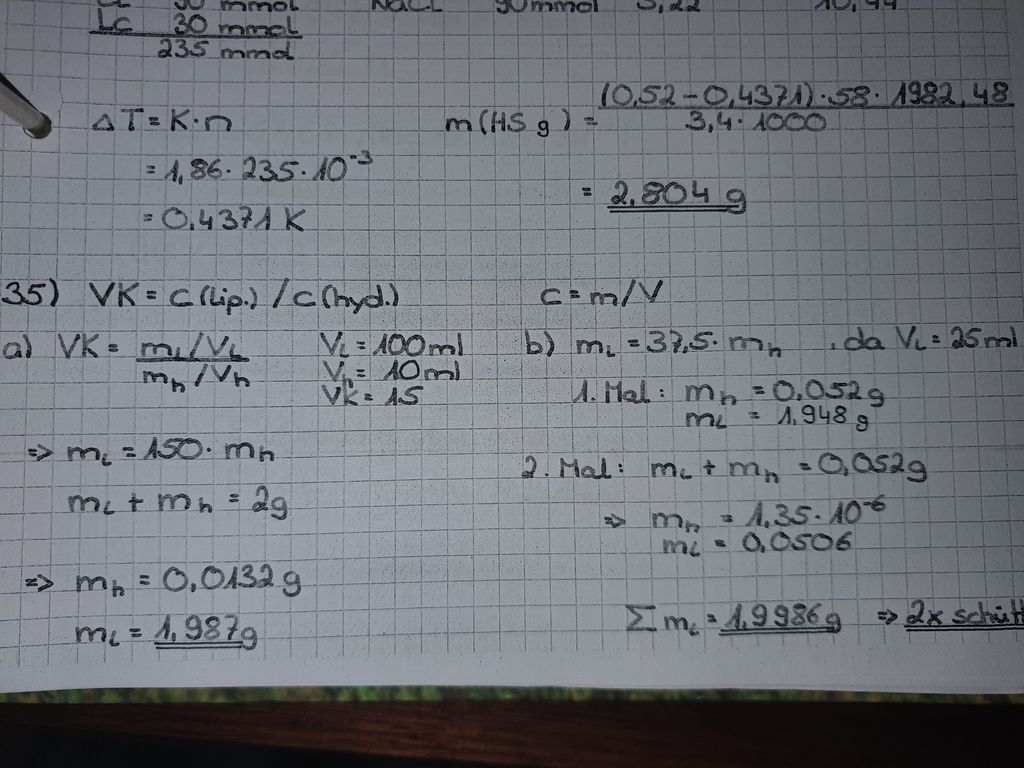equals: (579, 107, 604, 133), (575, 178, 600, 203), (118, 438, 141, 462), (742, 405, 767, 427), (131, 568, 155, 590), (224, 484, 245, 508), (123, 622, 146, 643), (564, 282, 586, 303), (139, 284, 163, 303), (142, 155, 160, 179), (103, 337, 127, 355), (748, 380, 770, 399), (701, 605, 719, 627), (145, 107, 162, 130), (351, 333, 371, 352), (794, 455, 812, 476), (623, 334, 644, 351), (346, 368, 375, 380), (141, 208, 160, 225), (929, 329, 943, 351), (710, 536, 732, 549), (717, 507, 736, 522), (362, 390, 377, 404)
equation: (435, 71, 1019, 149), (78, 269, 420, 313), (45, 321, 253, 390), (613, 588, 854, 639), (639, 447, 936, 486), (640, 490, 902, 531), (57, 480, 297, 524), (70, 605, 264, 659), (132, 144, 386, 185), (59, 426, 294, 470), (68, 554, 310, 596), (571, 164, 759, 218), (569, 320, 789, 363), (71, 88, 239, 138), (680, 372, 894, 407), (137, 197, 313, 238), (530, 269, 683, 315), (675, 403, 882, 433), (312, 322, 472, 359), (644, 528, 862, 555), (891, 317, 1019, 360), (311, 355, 467, 385), (314, 384, 436, 411)
fraction: (600, 61, 1017, 138), (168, 274, 410, 320), (132, 324, 259, 397)
separator: (680, 84, 701, 105)
term: (163, 146, 378, 181), (606, 171, 751, 212), (741, 491, 896, 527), (157, 559, 305, 596), (716, 596, 845, 637), (645, 324, 786, 361), (151, 609, 261, 652), (440, 99, 571, 135), (146, 431, 277, 466), (162, 202, 309, 232), (740, 527, 859, 560), (586, 274, 677, 312), (619, 598, 702, 638), (821, 450, 929, 480), (774, 377, 885, 406), (375, 328, 465, 357), (775, 403, 872, 429), (167, 96, 233, 134), (950, 321, 1018, 355), (379, 357, 463, 382), (54, 326, 107, 365), (150, 487, 216, 517), (73, 561, 126, 598), (648, 501, 705, 535), (723, 453, 780, 485), (74, 612, 121, 650), (88, 275, 138, 310), (681, 377, 743, 404), (89, 102, 141, 133), (253, 484, 295, 522), (64, 434, 112, 466), (63, 488, 114, 518), (657, 533, 705, 560), (645, 454, 694, 480), (576, 331, 620, 359), (682, 408, 736, 430), (316, 327, 349, 360), (385, 383, 426, 407), (320, 382, 358, 407), (896, 323, 924, 355), (535, 277, 562, 309), (316, 360, 347, 382)
